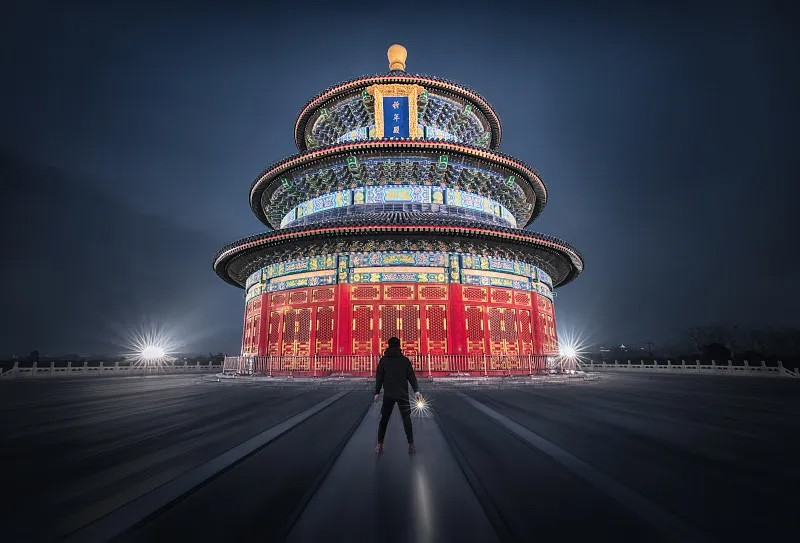Heaven: (213, 43, 585, 382)
